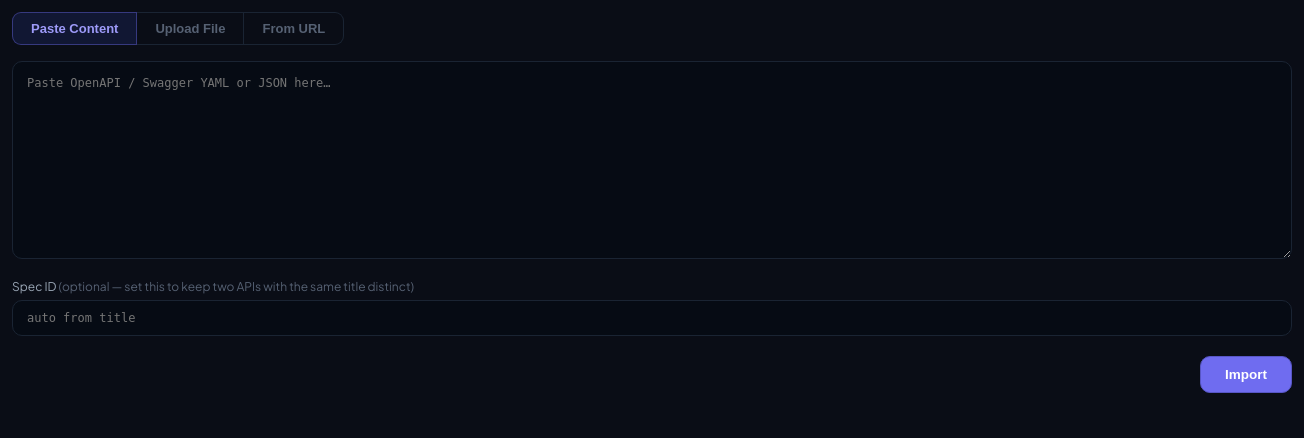
Test: OpenApiImporter › api_error_shows_error_message
Type "openapi: \"3.0.0\"" into the text box named "OpenAPI content" at (652, 160), box x1=12 y1=61 x2=1292 y2=259
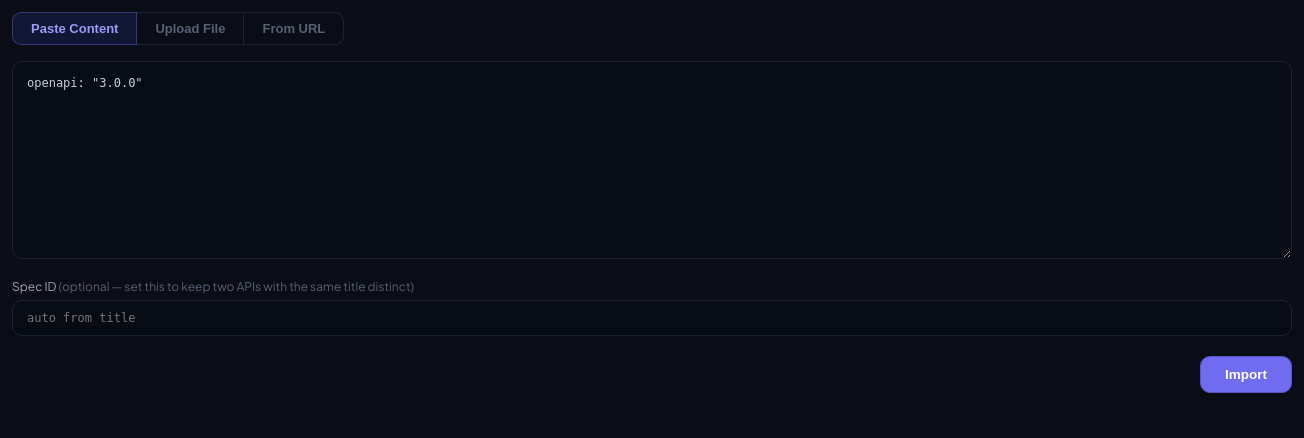
Click the button "Import" at (1246, 374), box x1=1200 y1=356 x2=1292 y2=393
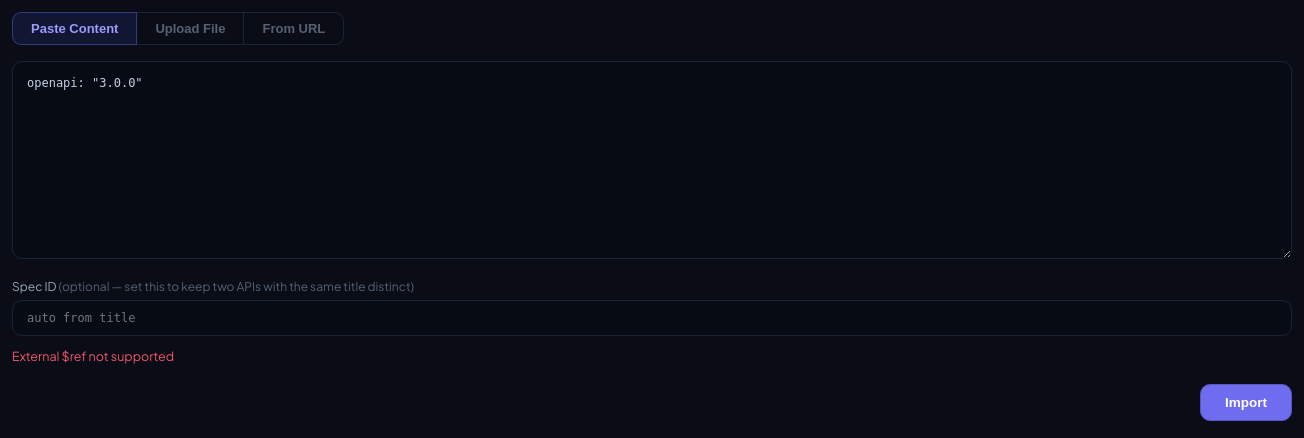
Expected: the message reads "External $ref not supported", x1=12 y1=348 x2=174 y2=364
